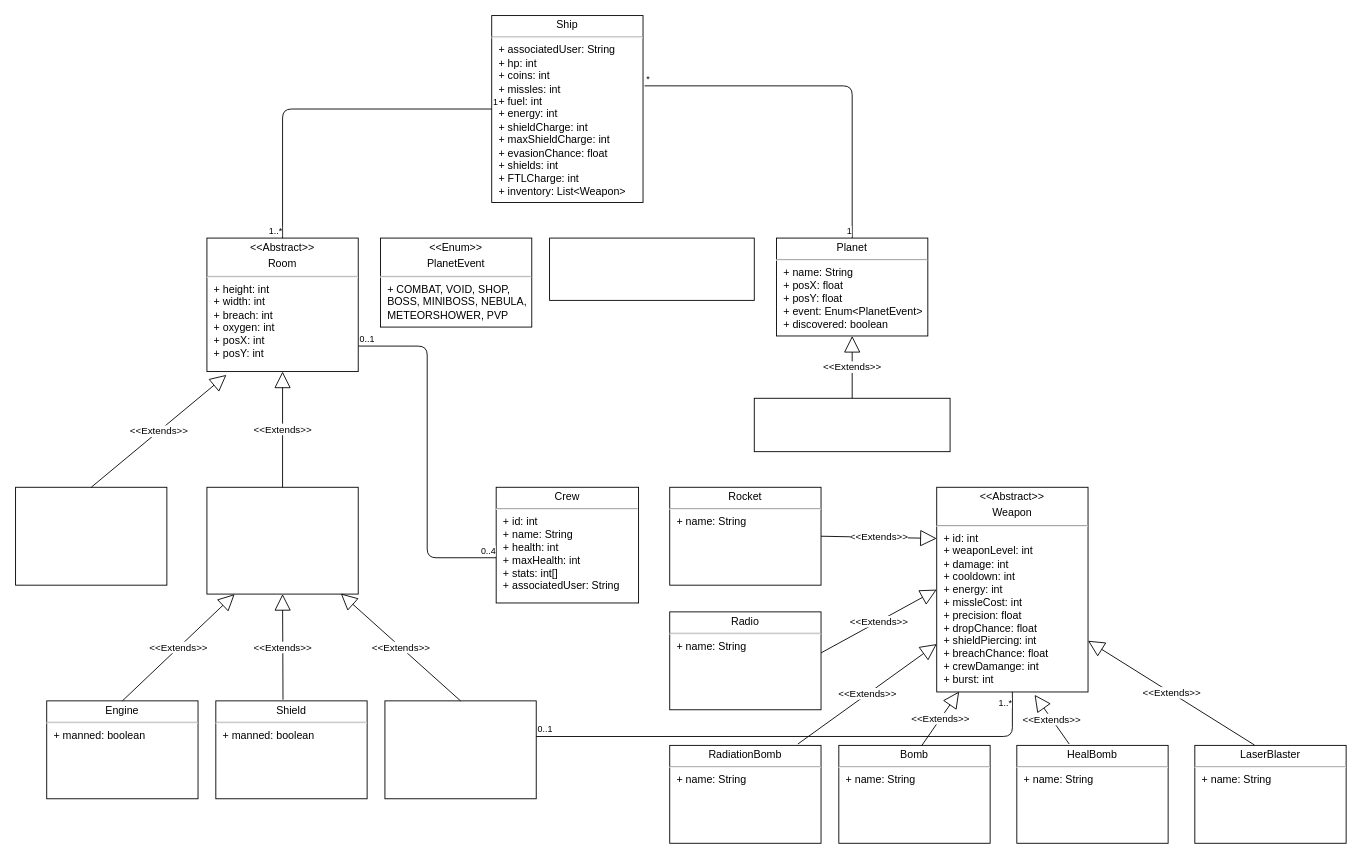
Image size: 1362x859. Some labels were removed from this diagram. Each missing label, with the centre of its shape:
<<Abstract>> System + id: int + energy: int + maxEnergy: int + damage: int: (x=282, y=540)
BlankRoom + id: int: (x=91, y=535)
Overworld + associatedUser: String + planetMap: HashMap<float[],Planet>: (x=651, y=268)
Trader + weaponsForSale: List<Weapon>: (x=851, y=424)
WeaponSystem + manned: boolean: (x=460, y=749)
